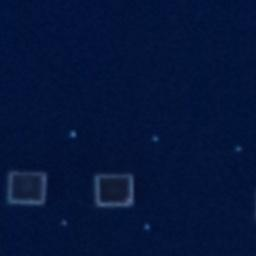square_cover: (91, 168, 139, 210), (5, 166, 52, 208)
